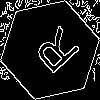R: (25, 25, 83, 83)
